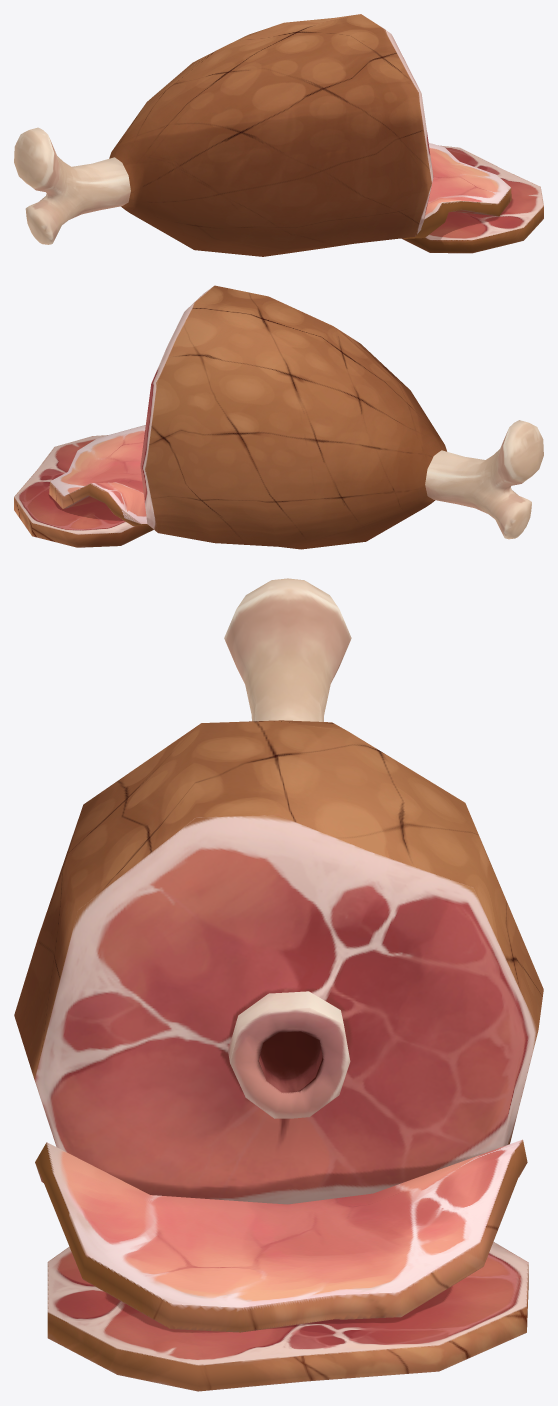
File: carne.glb
3 views of the same model, one above another, from view 1: azimuth 30°, elevation 25°; view 2: azimuth 150°, elevation 25°; view 3: azimuth 270°, elevation 25° (orthographic). The views are drawn at different scales.
Parts seen in each view (by area): view 1: Object_3, Object_4, Object_2; view 2: Object_3, Object_4, Object_2; view 3: Object_3, Object_2, Object_4.
Part boxes in pixels (<box>): Object_3: <box>14,14,433,256</box>; Object_4: <box>401,145,543,253</box>; Object_2: <box>403,143,511,238</box>; Object_3: <box>140,285,543,549</box>; Object_4: <box>14,435,153,547</box>; Object_2: <box>49,425,148,525</box>; Object_3: <box>14,578,543,1204</box>; Object_2: <box>35,1139,527,1332</box>; Object_4: <box>47,1242,528,1391</box>.
Size of the model in its own units: 14.56 by 5.95 by 6.74.
Materials: 3 (3 with a texture image).
